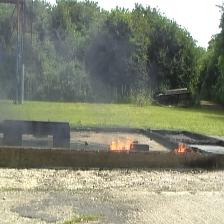fire: (111, 138, 131, 150), (175, 142, 186, 152)
